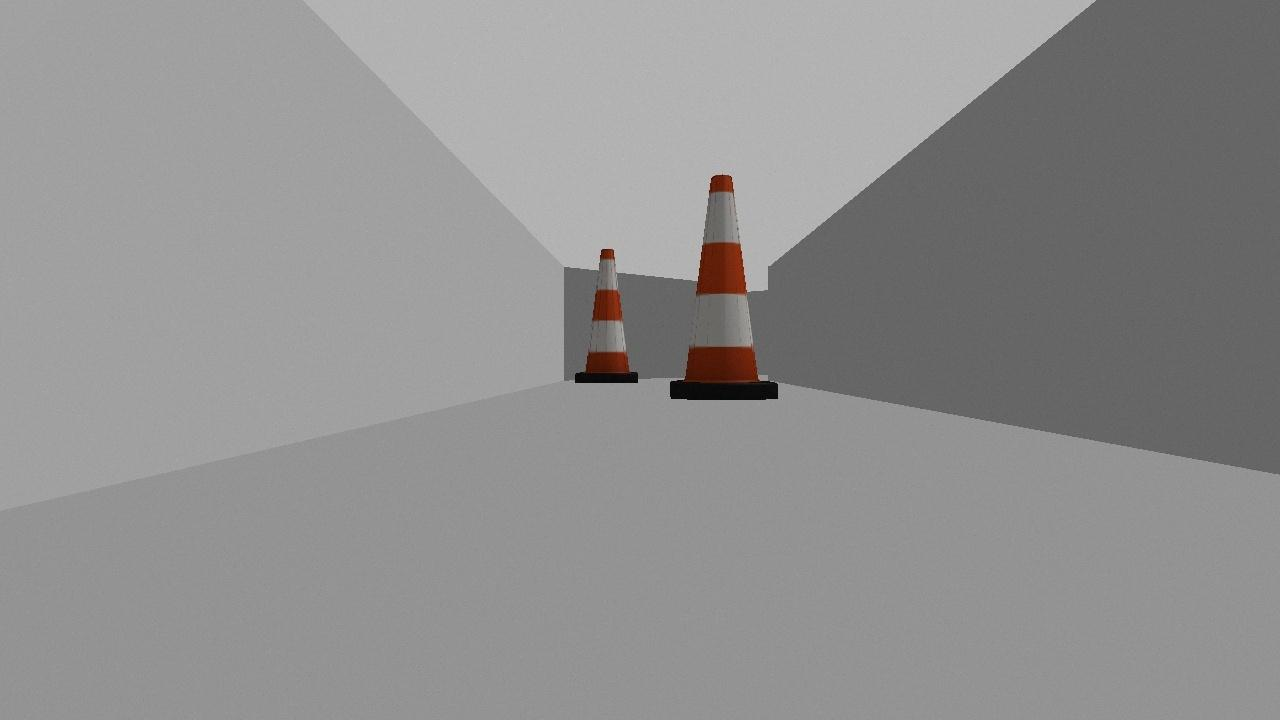cone_barrel: (662, 170, 783, 405), (567, 243, 645, 388)
